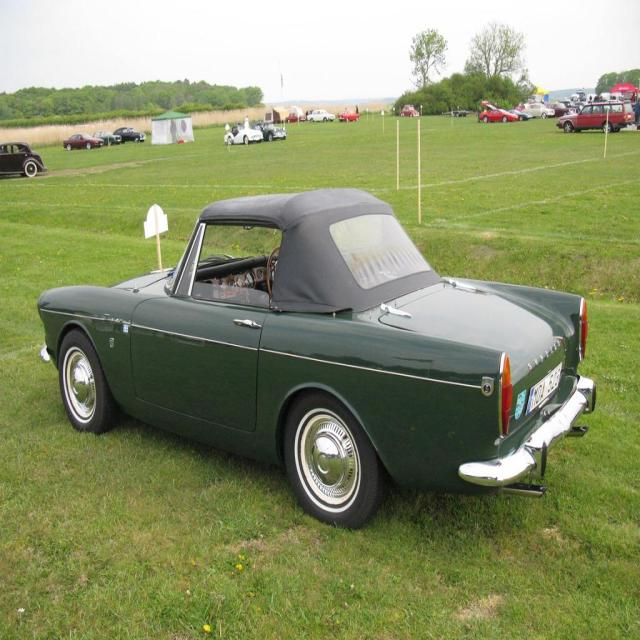car: (32, 184, 590, 522), (556, 99, 634, 132), (61, 132, 103, 150), (306, 108, 333, 122), (337, 108, 358, 120)
